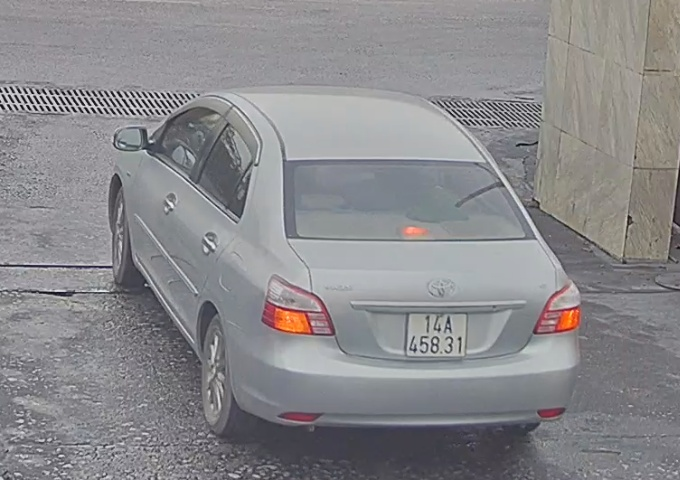vehicle plate: (404, 304, 465, 359)
